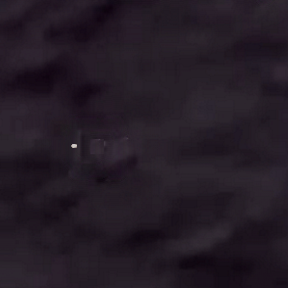Targetw: (70, 143, 79, 149)
